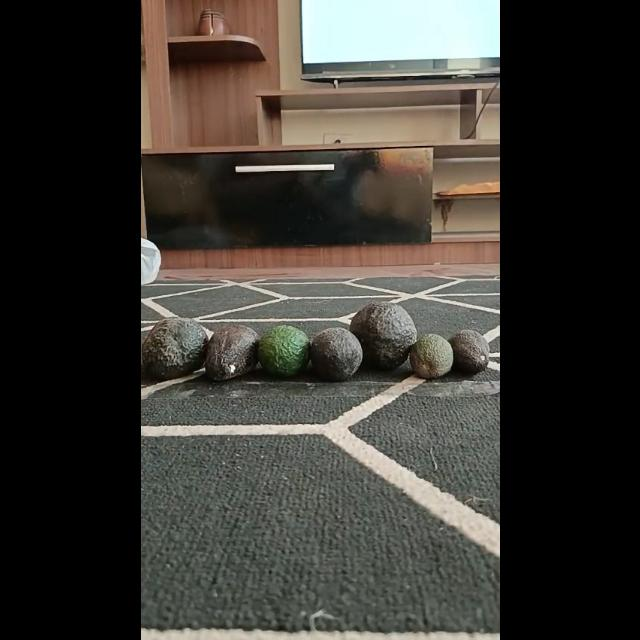Primera: (348, 300, 417, 368), (140, 316, 208, 379)
Segunda: (203, 324, 260, 381), (309, 328, 363, 380), (256, 324, 310, 376)
Tercera: (409, 333, 453, 379), (447, 330, 489, 374)
